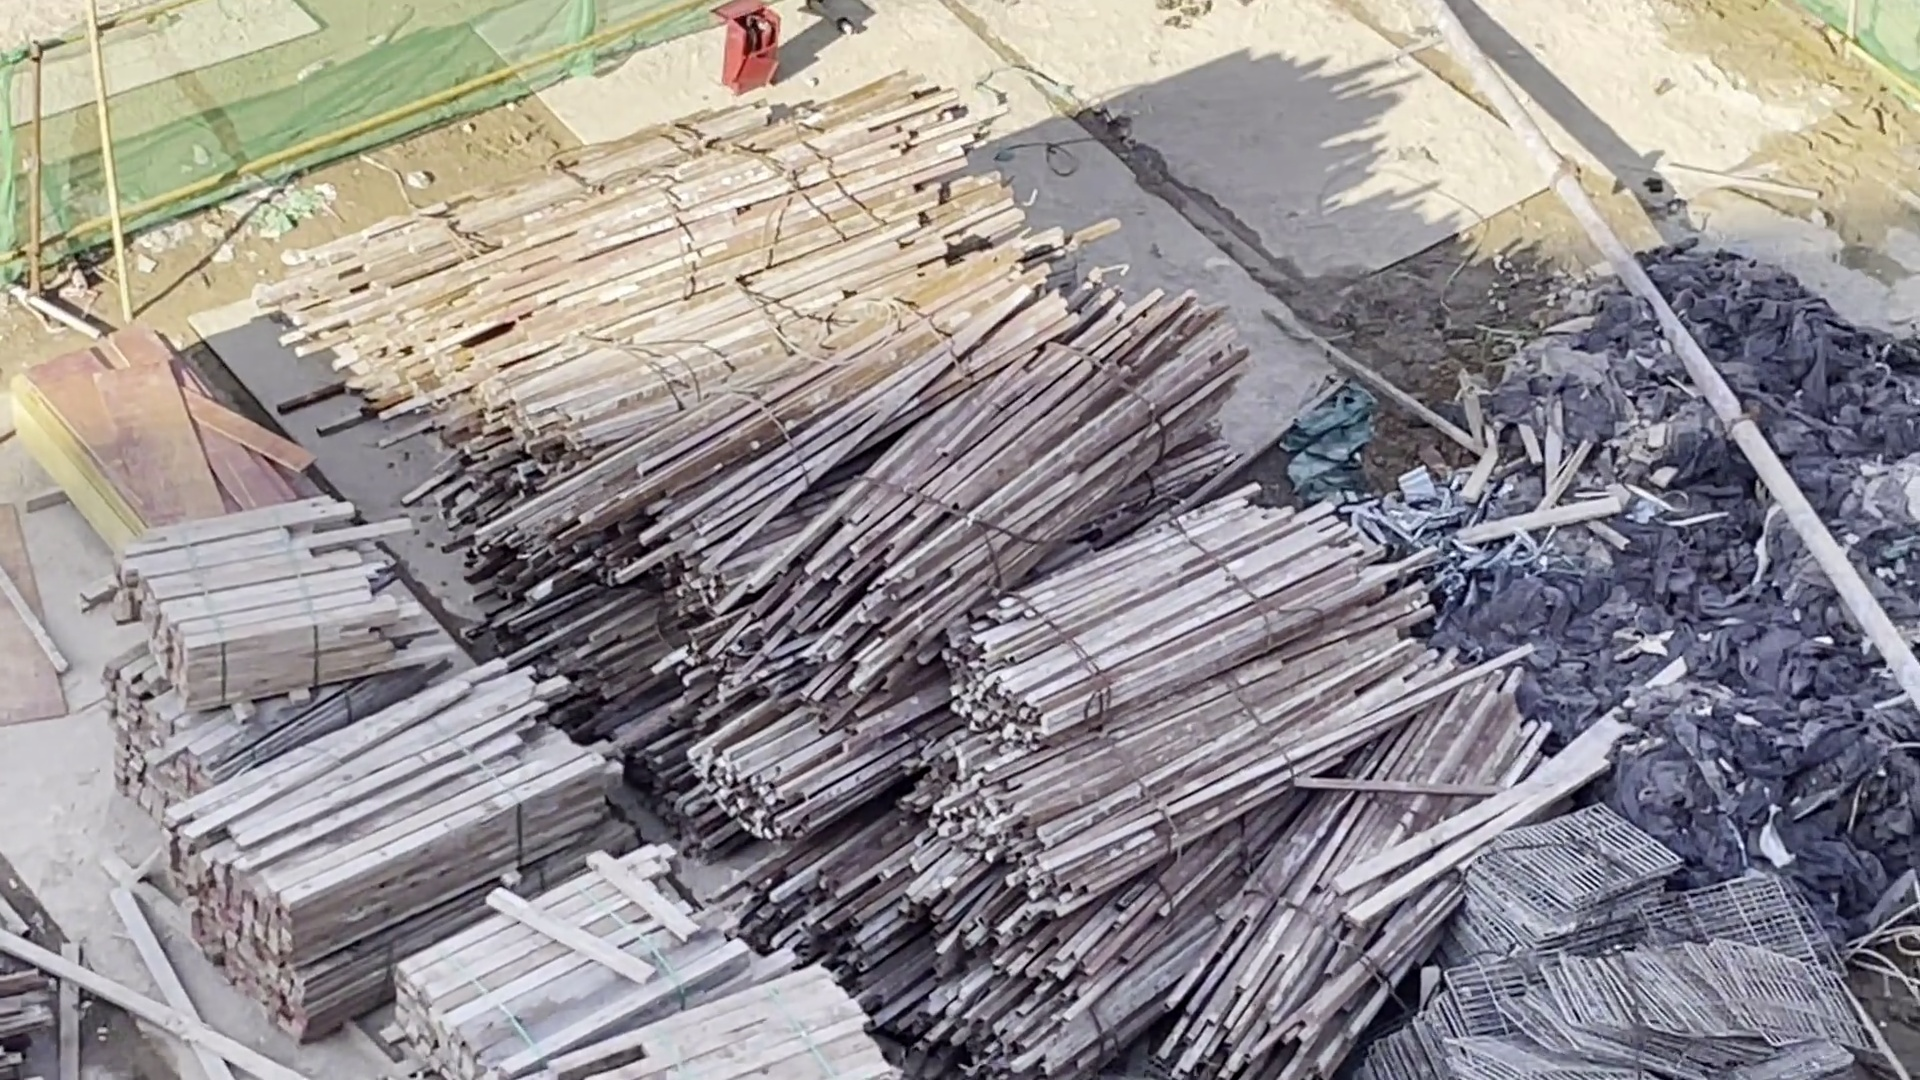board: (3, 347, 280, 529)
wood: (756, 313, 1244, 679), (299, 103, 814, 392), (471, 119, 963, 372), (1168, 744, 1582, 1044), (971, 604, 1444, 837), (615, 257, 1029, 516), (973, 506, 1365, 709), (171, 749, 556, 948), (483, 272, 984, 419), (384, 887, 709, 1062), (141, 568, 419, 694), (553, 977, 869, 1080), (965, 895, 1188, 1039), (725, 684, 951, 819), (99, 684, 269, 804), (753, 856, 935, 963)
